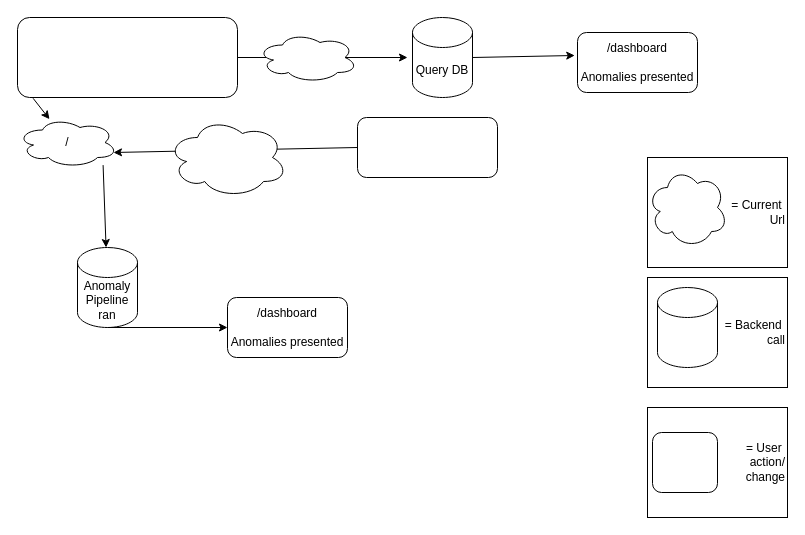
The diagram is 805 pixels wide and 535 high, and some of its shapes have lost their labels. Each missing label, with the box of its shape:
/logs: (256, 32, 358, 82)
Clicked "Run Pipeline": (356, 116, 498, 178)
Load Webpage: (16, 16, 238, 98)
POST /dashboard: (166, 116, 288, 198)
